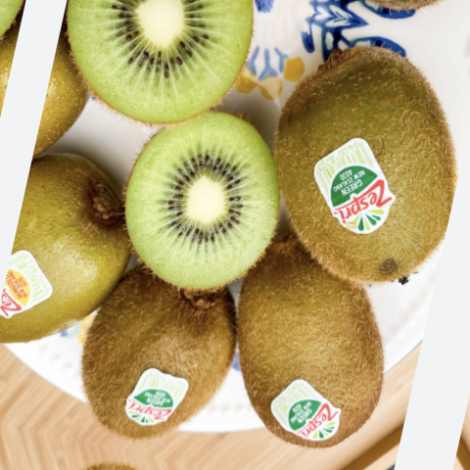kiwi: (222, 27, 470, 320), (209, 215, 412, 470), (50, 243, 261, 465)
